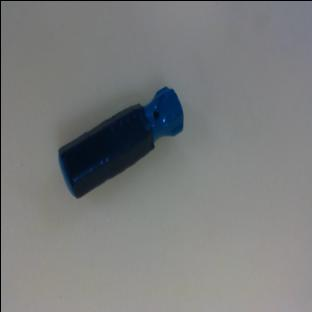part_2_bad: (47, 80, 195, 200)
